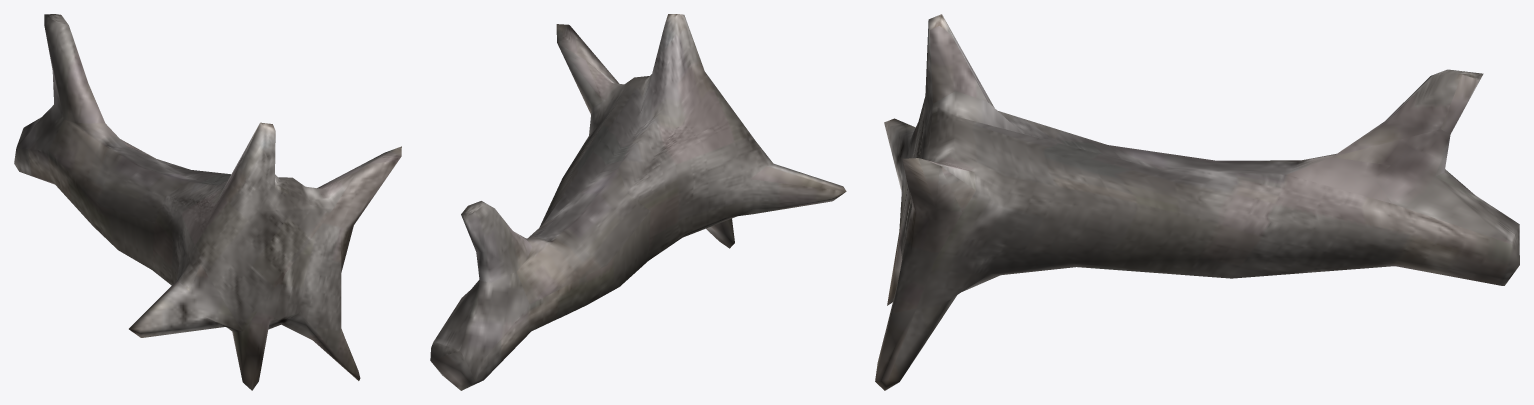
The model's file is WoodLog2.fbx.
3 renders of one model, left to right at view 1: azimuth 30°, elevation 25°; view 2: azimuth 150°, elevation 25°; view 3: azimuth 270°, elevation 25°, orthographic. The views are drawn at different scales.
Parts seen in each view (by area): view 1: log2; view 2: log2; view 3: log2.
Boxes of the visible parts, bbox=[...] form: log2: bbox=[14, 14, 401, 390]; log2: bbox=[430, 14, 846, 390]; log2: bbox=[875, 14, 1519, 390].
Bounding box in the file's own units: 346 × 305 × 540.
